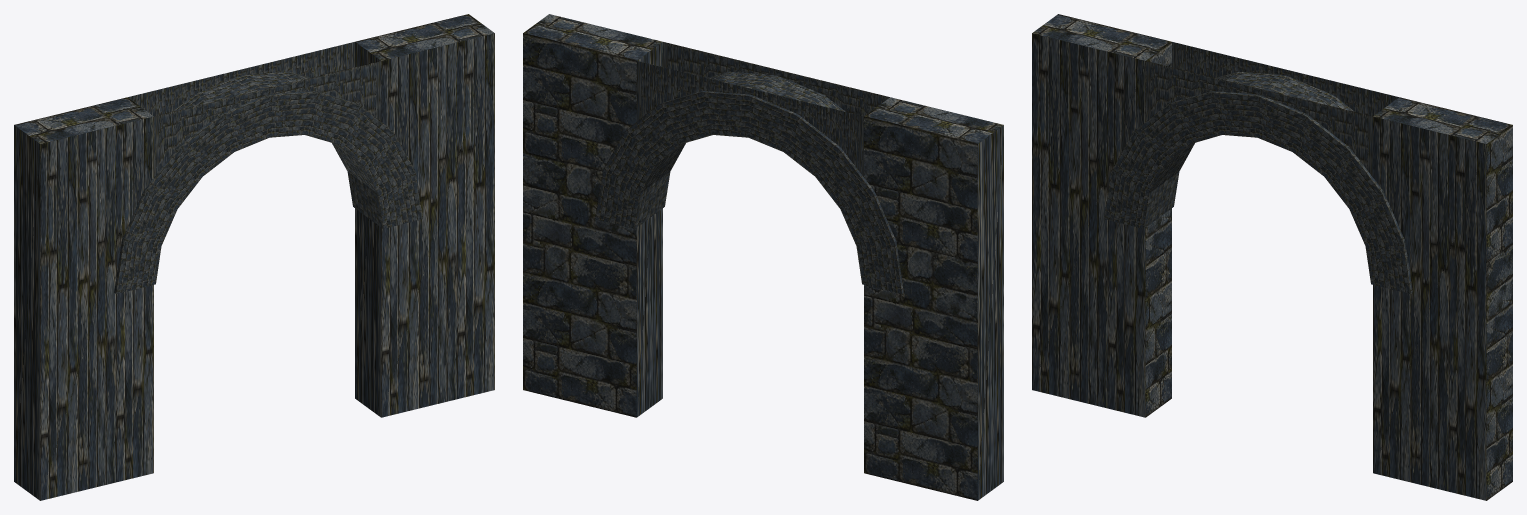
The model's file is M_Arco_4m.obj.
3 views of the same model, side by side, from view 1: azimuth 30°, elevation 25°; view 2: azimuth 150°, elevation 25°; view 3: azimuth 330°, elevation 25° (orthographic).
Parts seen in each view (by area): view 1: M_Arco_4m; view 2: M_Arco_4m; view 3: M_Arco_4m.
Boxes of the visible parts, bbox=[...] form: M_Arco_4m: bbox=[14, 14, 494, 500]; M_Arco_4m: bbox=[523, 14, 1003, 500]; M_Arco_4m: bbox=[1032, 14, 1512, 500].
Bounding box in the file's own units: 4 × 3 × 0.46.
1 material, 1 textured.
